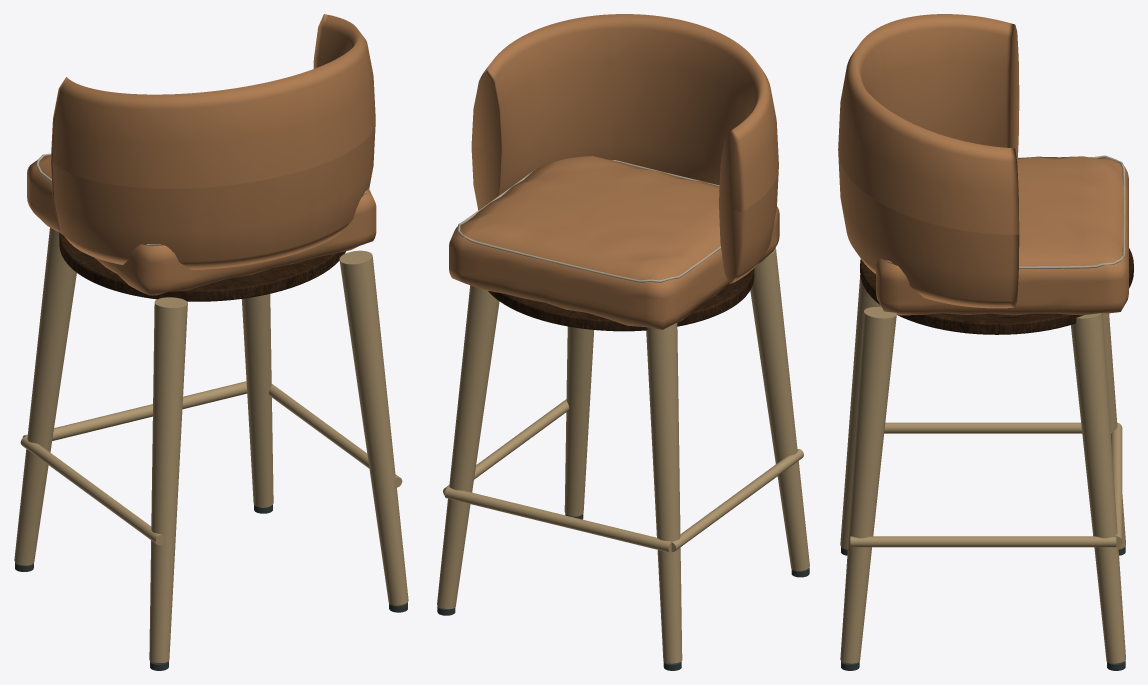
Rendered from dining-counter-stool.glb.
3 renders of one model, left to right at view 1: azimuth 30°, elevation 25°; view 2: azimuth 150°, elevation 25°; view 3: azimuth 270°, elevation 25°, orthographic. The views are drawn at different scales.
Parts seen in each view (by area): view 1: leather_surfaces, bronze_surfaces, walnut_surfaces; view 2: leather_surfaces, bronze_surfaces, walnut_surfaces, welt_surfaces; view 3: leather_surfaces, bronze_surfaces, walnut_surfaces, welt_surfaces.
Part boxes in pixels (x1,y1,x2,y2): leather_surfaces: [27, 14, 376, 295]; bronze_surfaces: [14, 227, 408, 662]; walnut_surfaces: [59, 232, 345, 301]; leather_surfaces: [449, 14, 779, 329]; bronze_surfaces: [437, 247, 809, 663]; walnut_surfaces: [488, 268, 754, 331]; welt_surfaces: [457, 160, 721, 282]; leather_surfaces: [838, 14, 1128, 315]; bronze_surfaces: [840, 275, 1125, 663]; walnut_surfaces: [860, 248, 1133, 334]; welt_surfaces: [885, 155, 1125, 268].
Bounding box in the file's own units: 0.608 × 1.1 × 0.538.
5 materials, 1 textured.
